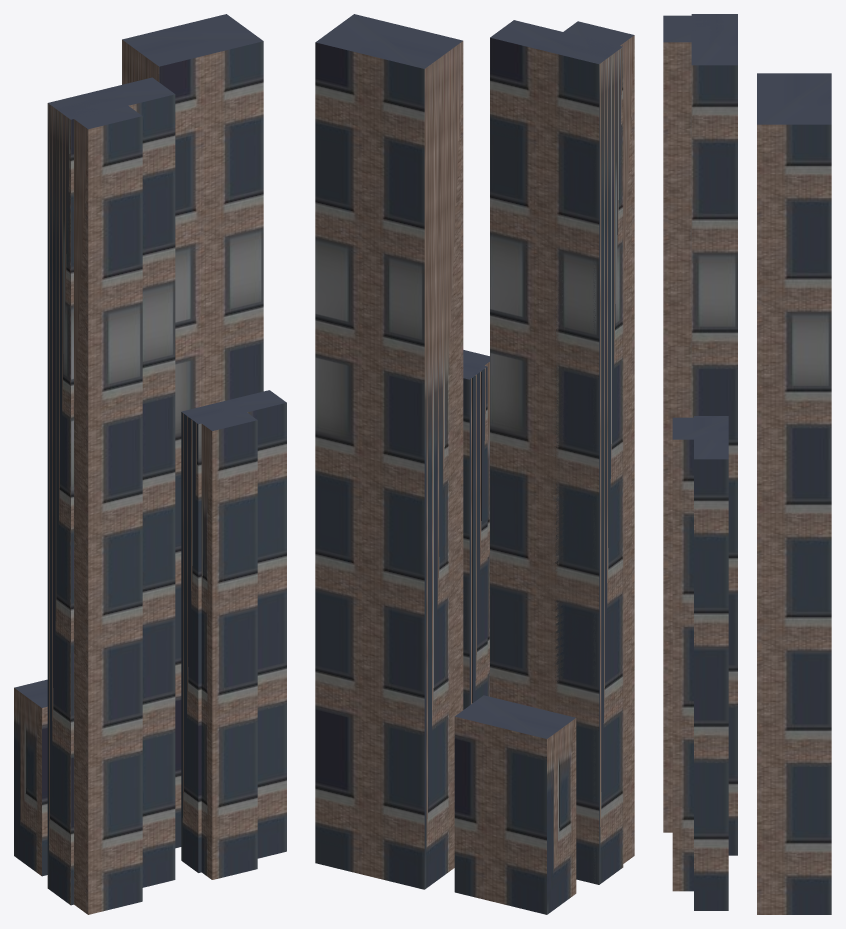
File: block_09.obj
3 renders of one model, left to right at view 1: azimuth 30°, elevation 25°; view 2: azimuth 150°, elevation 25°; view 3: azimuth 270°, elevation 25°, orthographic. The views are drawn at different scales.
Visible parts, largest first — view 1: b1, b3, b2, b0; view 2: b2, b1, b0, b3; view 3: b2, b1, b3.
Part boxes in pixels (x1,y1,x2,y2): b1: (47,77,175,914); b3: (181,390,286,879); b2: (122,14,263,848); b0: (14,679,47,876); b2: (315,14,463,889); b1: (490,20,634,884); b0: (454,695,576,914); b3: (463,350,489,709); b2: (757,73,831,914); b1: (663,14,737,855); b3: (672,416,728,910).
Size of the model in its own units: 4.2 by 14 by 2.7.
